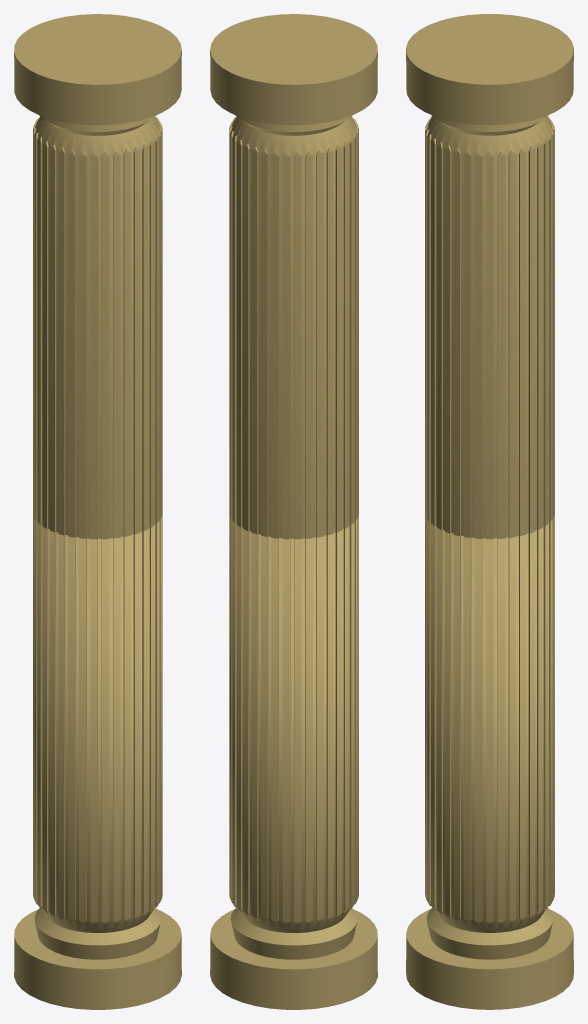
Rendered from Unbroken_pillar.FBX.
3 renders of one model, left to right at view 1: azimuth 30°, elevation 25°; view 2: azimuth 150°, elevation 25°; view 3: azimuth 270°, elevation 25°, orthographic.
Visible parts, largest first — view 1: Cylinder001; view 2: Cylinder001; view 3: Cylinder001.
Part boxes in pixels (<box>): Cylinder001: <box>14,14,181,1009</box>; Cylinder001: <box>210,14,377,1009</box>; Cylinder001: <box>406,14,573,1009</box>.
Bounding box in the file's own units: 31.18 × 190 × 31.21.
